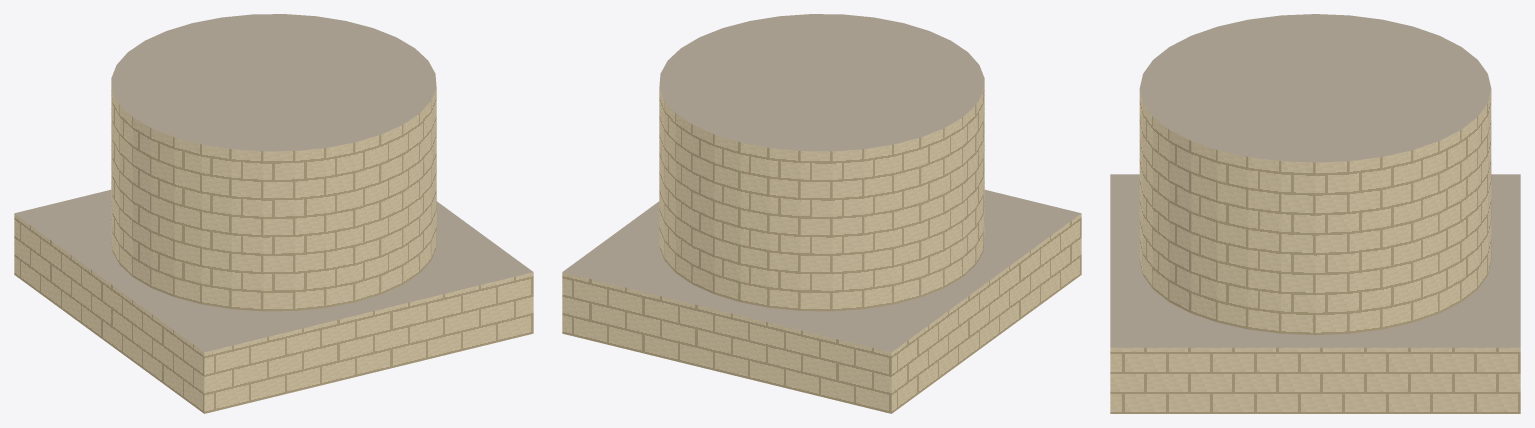
Rendered from monument.glb.
3 views of the same model, side by side, from view 1: azimuth 30°, elevation 25°; view 2: azimuth 150°, elevation 25°; view 3: azimuth 270°, elevation 25° (orthographic). The views are drawn at different scales.
Visible parts, largest first — view 1: Monument; view 2: Monument; view 3: Monument.
Part boxes in pixels (x1=…): Monument: x1=14, y1=14, x2=533, y2=413; Monument: x1=562, y1=14, x2=1081, y2=413; Monument: x1=1110, y1=14, x2=1520, y2=413.
Size of the model in its own units: 28 by 18 by 28.
Materials: 2 (1 with a texture image).
